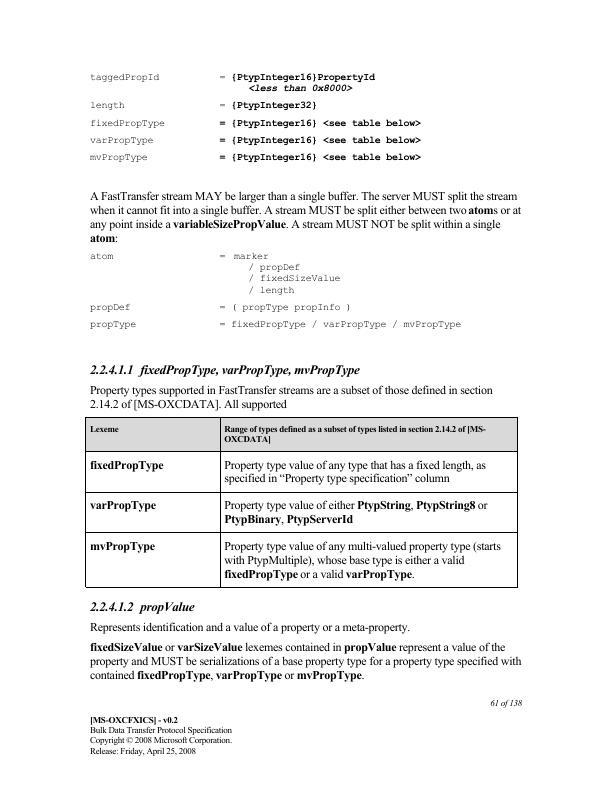table: (81, 416, 522, 589)
text: (86, 189, 523, 246), (87, 642, 522, 684), (87, 384, 499, 411), (85, 715, 235, 757), (213, 251, 341, 297), (86, 620, 413, 638), (83, 361, 361, 379), (213, 72, 377, 94), (216, 134, 426, 149), (213, 117, 424, 131), (218, 150, 422, 164), (218, 320, 462, 331), (213, 302, 359, 315), (213, 98, 324, 115), (83, 600, 197, 614), (85, 115, 164, 131), (86, 132, 159, 147), (86, 70, 160, 84), (88, 152, 149, 165), (83, 97, 129, 113), (86, 317, 138, 331), (86, 302, 136, 313), (484, 697, 525, 710), (88, 251, 116, 263)
